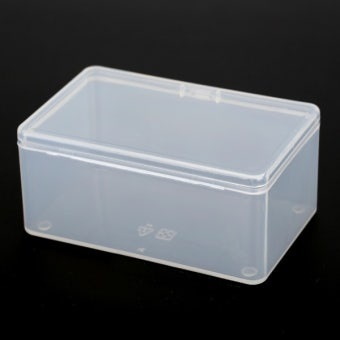plastic: (17, 65, 321, 285)
